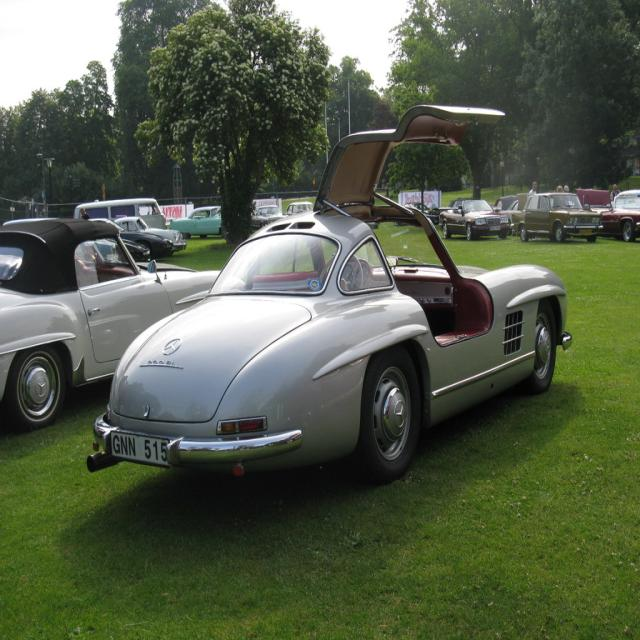car: (83, 109, 574, 479), (512, 189, 602, 238)
